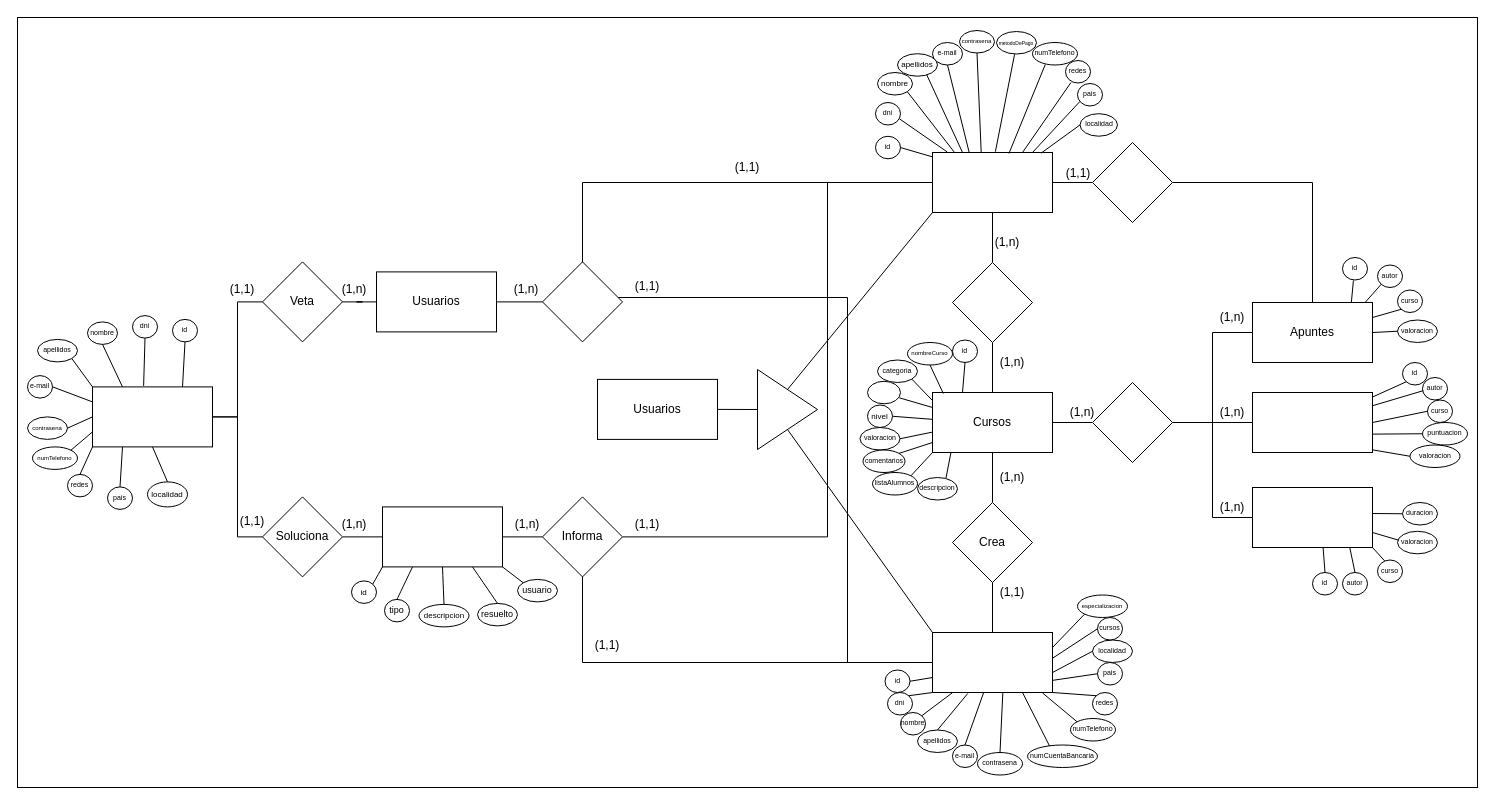
Some shapes in this 1495 by 805 pixel diagram are drawn without their labels. Here are the shapes that lost their labels. From the top down, the centre of each, then its label:
point (992, 182): Estudiantes
point (1132, 182): Sube
point (582, 301): Reporta
point (992, 302): Participa en
point (787, 409): Es un
point (883, 392): profesor
point (152, 416): Administrador
point (1132, 422): Tiene
point (1312, 422): Ejercicios
point (442, 536): Incidencias
point (1312, 517): Vídeos
point (992, 662): Profesores
